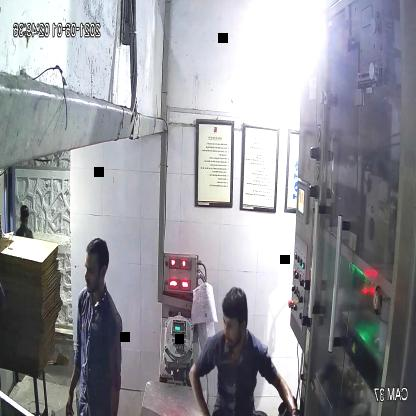no_goggles: (81, 260, 112, 282), (222, 312, 249, 336)
